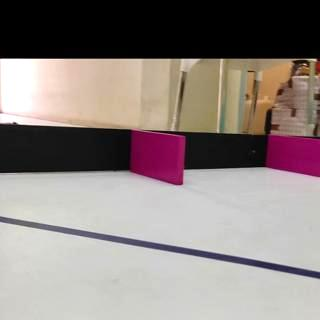xparking: (135, 135, 183, 182), (271, 137, 320, 175)
